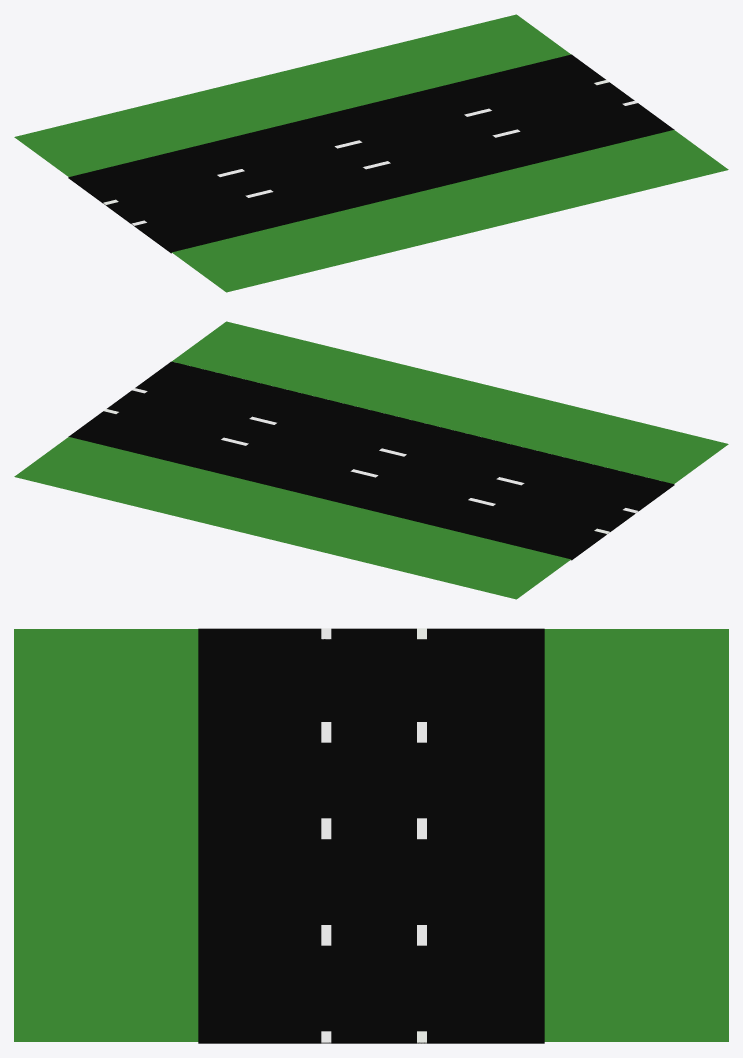
The model's file is Grasslands.fbx.
3 views of the same model, one above another, from view 1: azimuth 30°, elevation 25°; view 2: azimuth 150°, elevation 25°; view 3: azimuth 270°, elevation 25° (orthographic). The views are drawn at different scales.
Parts seen in each view (by area): view 1: Cube.007, Plane.001, Plane.002; view 2: Cube.007, Plane.001, Plane.002; view 3: Cube.007, Plane.001, Plane.002.
Boxes of the visible parts, x1,y1,x2,y2 form: Cube.007: (68, 54, 674, 253); Plane.001: (14, 14, 570, 176); Plane.002: (172, 130, 728, 292); Cube.007: (68, 361, 674, 560); Plane.001: (14, 437, 570, 599); Plane.002: (172, 321, 728, 483); Cube.007: (198, 628, 544, 1043); Plane.001: (544, 629, 728, 1041); Plane.002: (14, 629, 198, 1041).
Size of the model in its own units: 3843 by 7 by 2808.
